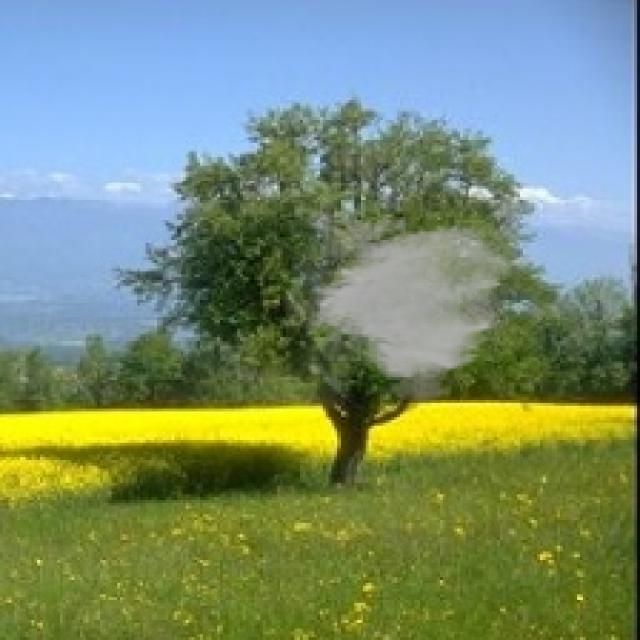smoke: (286, 203, 514, 408)
